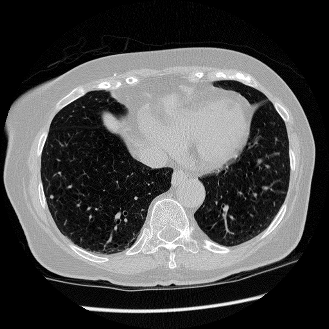nodule: (49, 195, 53, 199)
